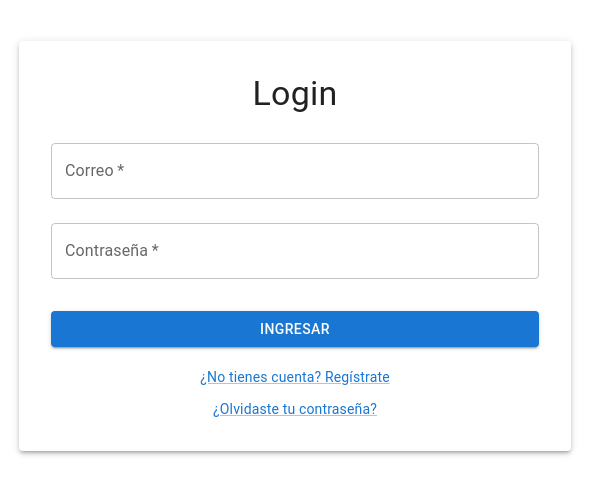
Test: LoginPage › alterna a formulario de registro
Click the button "¿No tienes cuenta? Regístrate" at (295,377), box [200,367,390,387]
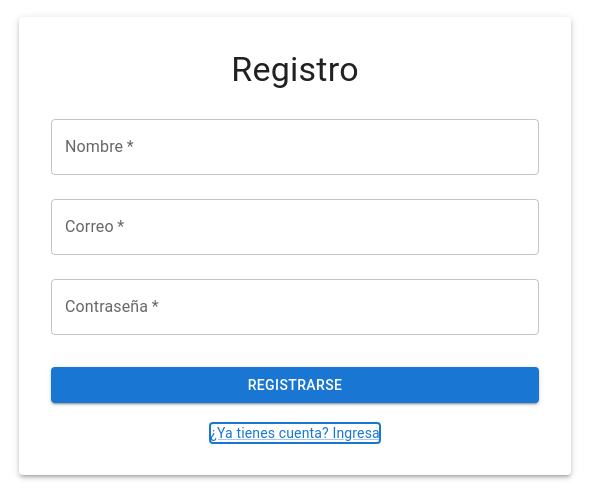
Expected: the heading "Registro" is shown, [231,49,359,89]
Expected: the field labelled "Nombre *" is shown, [51,119,539,175]
Expected: the button "Registrarse" is shown, [51,367,539,403]
